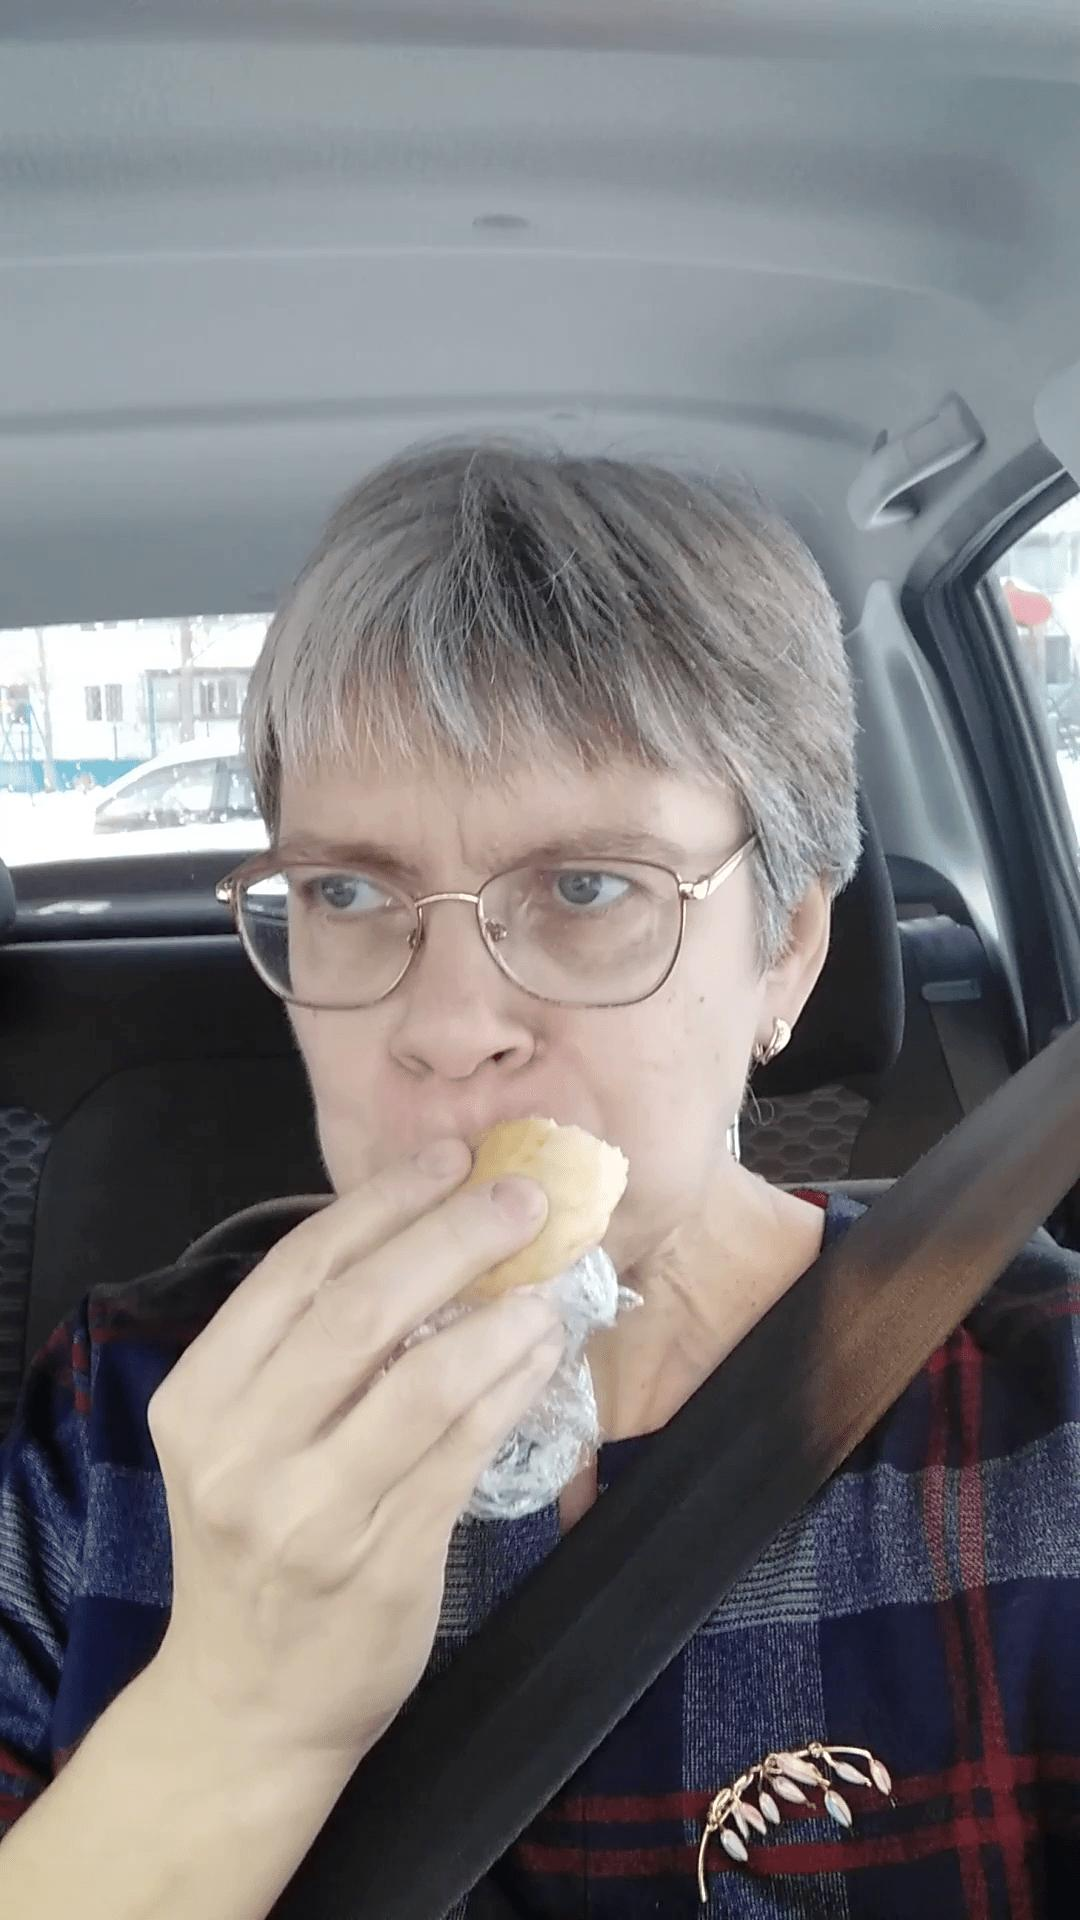Eating: (361, 1079, 622, 1518)
